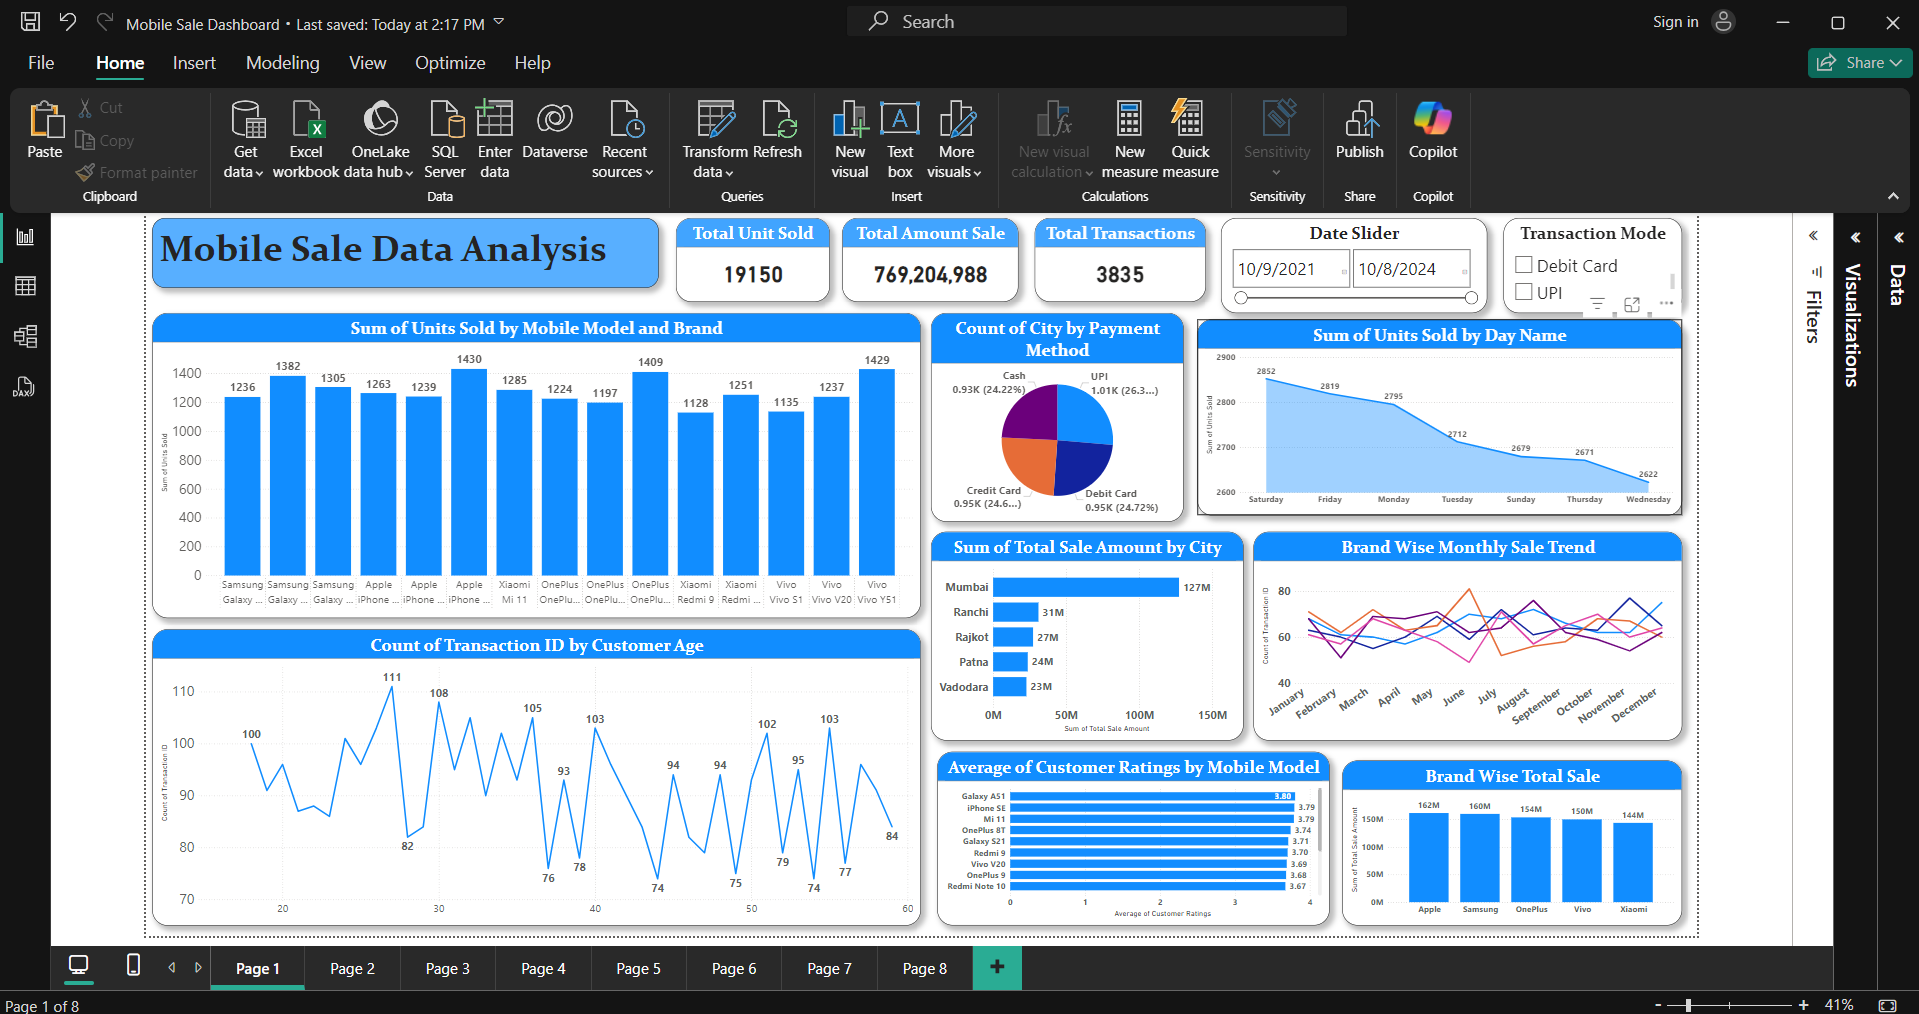

The dashboard page shown, as its layout file describes it:
{"tool":"powerbi","page":{"name":"Page 1","canvas":[3000,1400],"ordinal":0},"visuals":[{"type":"clusteredColumnChart","title":"Brand Wise Total Sale ","fields":{"Category":["Mobile Sale Data.Brand"],"Y":["Sum(Mobile Sale Data.Total Sale Amount)"]},"box":[2314.3,1042.8,659.1,336.9],"z":0},{"type":"slicer","title":"Date Slider","fields":{"Values":["Mobile Sale Data.Date"]},"box":[2080.2,9.7,515.2,183.8],"z":1000},{"type":"card","title":"Total Unit Sold","fields":{"Values":["Mobile Sale Data.Total Unit Sold"]},"box":[1025.6,9.7,297.5,162.1],"z":2000},{"type":"card","title":"Total Amount Sale","fields":{"Values":["Mobile Sale Data.TotalSaleAmount"]},"box":[1347.3,9.7,341.1,162.1],"z":3000},{"type":"card","title":"Total Transactions","fields":{"Values":["Mobile Sale Data.TotalTransaction"]},"box":[1719.8,9.7,331.4,162.1],"z":4000},{"type":"slicer","title":"Transaction Mode","fields":{"Values":["Mobile Sale Data.Payment Method"]},"box":[2626.7,9.8,346.8,184.5],"z":5000},{"type":"textbox","box":[12.1,9.7,979.6,135.5],"z":6000},{"type":"lineChart","title":"Brand Wise Monthly Sale Trend","fields":{"Category":["Mobile Sale Data.Date.Variation.Date Hierarchy.Month"],"Series":["Mobile Sale Data.Brand"],"Y":["CountNonNull(Mobile Sale Data.Transaction ID)"]},"box":[2143.1,616.8,829.7,403.9],"z":7000},{"type":"barChart","fields":{"Category":["Mobile Sale Data.City"],"Y":["Sum(Mobile Sale Data.Total Sale Amount)"]},"box":[1519,616.8,604.7,403.9],"z":8000},{"type":"barChart","fields":{"Category":["Mobile Sale Data.Mobile Model"],"Y":["Avg(Mobile Sale Data.Customer Ratings)"]},"box":[1531.1,1042.5,759.5,336.2],"z":9000},{"type":"lineChart","fields":{"Category":["Mobile Sale Data.Day Name"],"Y":["Sum(Mobile Sale Data.Units Sold)"]},"box":[2034.2,205.6,938.5,379.8],"z":10000},{"type":"lineChart","fields":{"Category":["Mobile Sale Data.Customer Age"],"Y":["CountNonNull(Mobile Sale Data.Transaction ID)"]},"box":[12.1,805.5,1487.6,573.3],"z":11000},{"type":"pieChart","fields":{"Y":["CountNonNull(Mobile Sale Data.City)"],"Category":["Mobile Sale Data.Payment Method"]},"box":[1519,193.5,488.6,403.9],"z":12000},{"type":"clusteredColumnChart","fields":{"Category":["Mobile Sale Data.Mobile Model","Mobile Sale Data.Brand"],"Y":["Sum(Mobile Sale Data.Units Sold)"]},"box":[12.1,193.5,1487.6,590.2],"z":13000},{"type":"image","box":[1042.8,76.2,68.9,68.9],"z":13001}]}

Visuals, with their boxes on the page's 3000x1400 design canvas (x1, y1, x2, y2). These are canvas units, not pixel positions in the 1919x1014 screenshot, which may show the page scaled, cropped or inside an application window:
"Brand Wise Total Sale " clusteredColumnChart: (x1=2314, y1=1043, x2=2973, y2=1380)
"Date Slider" slicer: (x1=2080, y1=10, x2=2595, y2=194)
"Total Unit Sold" card: (x1=1026, y1=10, x2=1323, y2=172)
"Total Amount Sale" card: (x1=1347, y1=10, x2=1688, y2=172)
"Total Transactions" card: (x1=1720, y1=10, x2=2051, y2=172)
"Transaction Mode" slicer: (x1=2627, y1=10, x2=2974, y2=194)
textbox: (x1=12, y1=10, x2=992, y2=145)
"Brand Wise Monthly Sale Trend" lineChart: (x1=2143, y1=617, x2=2973, y2=1021)
barChart - Mobile Sale Data.City x Sum(Mobile Sale Data.Total Sale Amount): (x1=1519, y1=617, x2=2124, y2=1021)
barChart - Mobile Sale Data.Mobile Model x Avg(Mobile Sale Data.Customer Ratings): (x1=1531, y1=1042, x2=2291, y2=1379)
lineChart - Mobile Sale Data.Day Name x Sum(Mobile Sale Data.Units Sold): (x1=2034, y1=206, x2=2973, y2=585)
lineChart - Mobile Sale Data.Customer Age x CountNonNull(Mobile Sale Data.Transaction ID): (x1=12, y1=806, x2=1500, y2=1379)
pieChart - CountNonNull(Mobile Sale Data.City) x Mobile Sale Data.Payment Method: (x1=1519, y1=194, x2=2008, y2=597)
clusteredColumnChart - Mobile Sale Data.Mobile Model x Mobile Sale Data.Brand: (x1=12, y1=194, x2=1500, y2=784)
image: (x1=1043, y1=76, x2=1112, y2=145)
